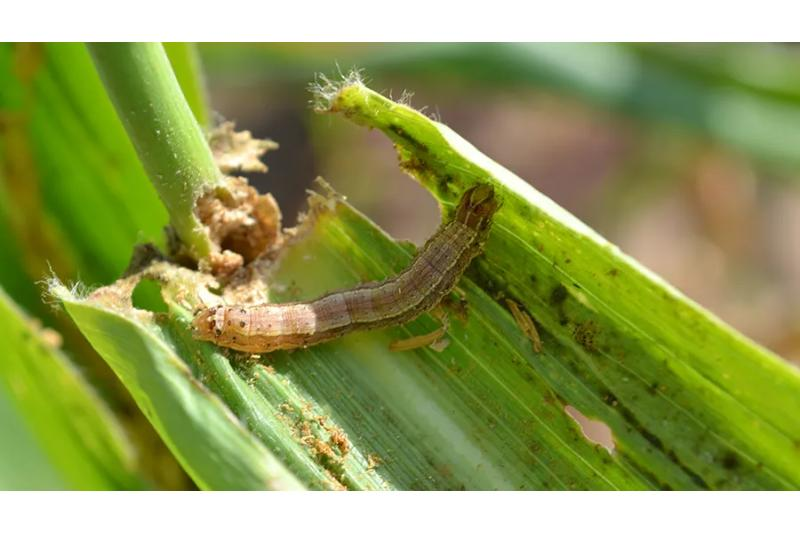fall-armyworm: (190, 182, 502, 356)
